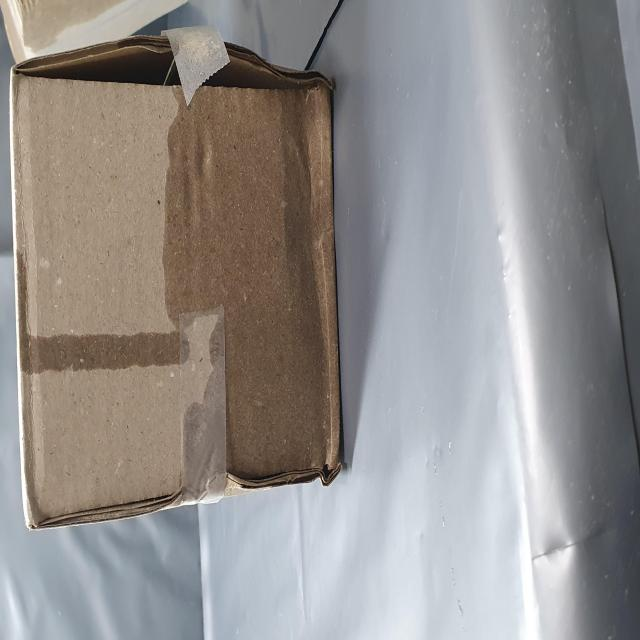wet: (88, 288, 321, 590), (140, 45, 183, 295)
